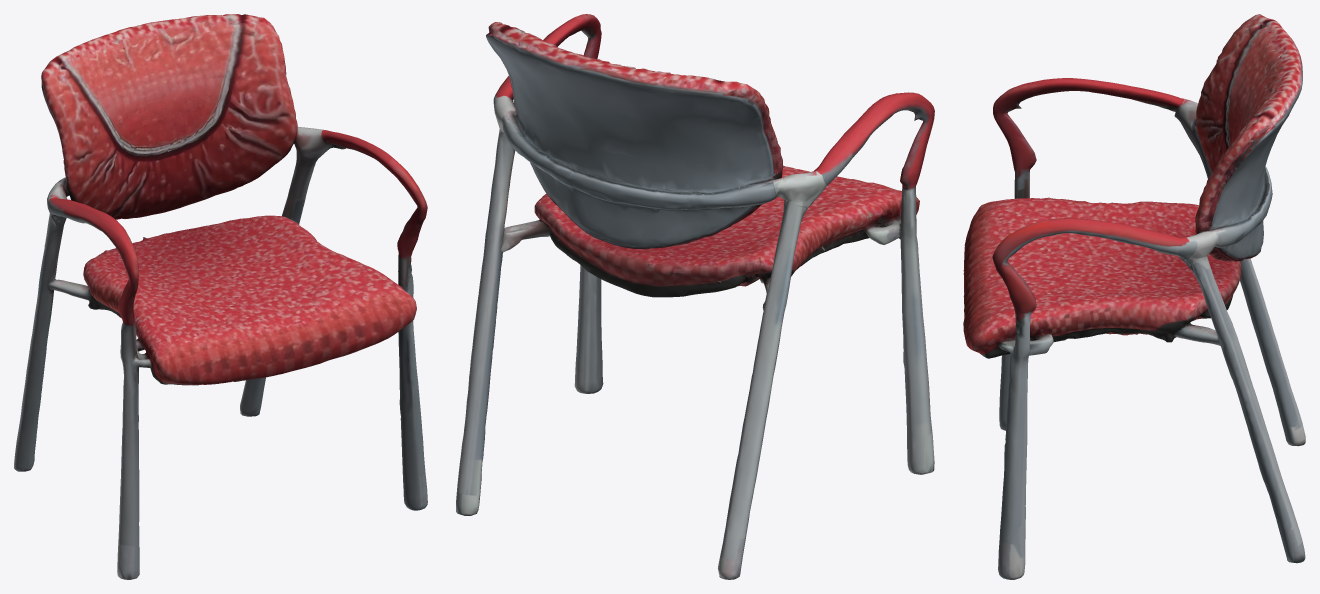
3 renders of one model, left to right at view 1: azimuth 30°, elevation 25°; view 2: azimuth 150°, elevation 25°; view 3: azimuth 270°, elevation 25°, orthographic. The views are drawn at different scales.
Size of the model in its own units: 1.53 by 1.99 by 1.41.
1 material, 1 textured.
